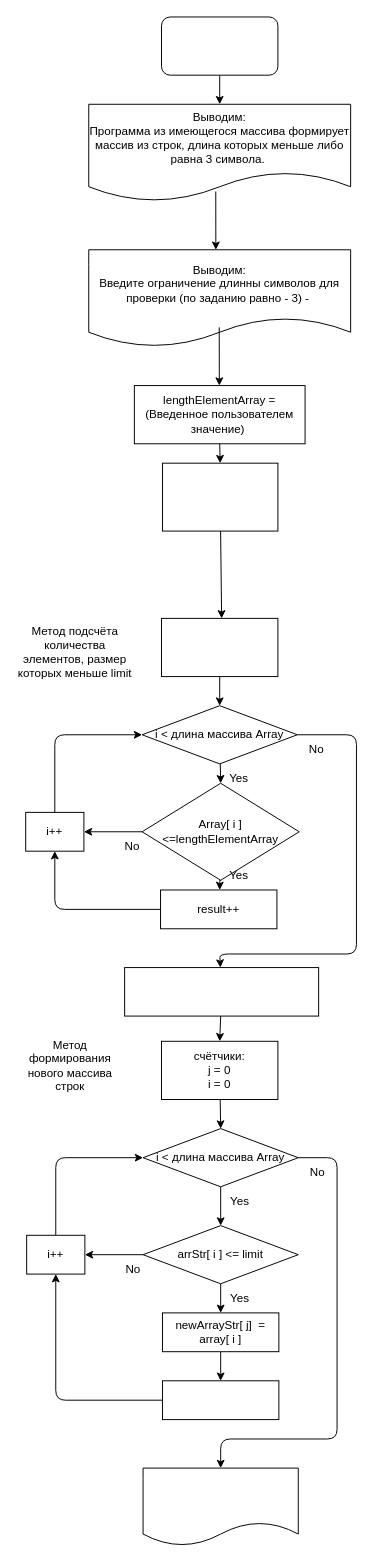
Some shapes in this 381 by 1563 pixel diagram are drawn without their labels. Here are the shapes that lost their labels. From the top down, the centre of each, then its label:
point 219,45: Начало
point 220,496: получение массива строк (Array)
point 219,647: счётчики: result= 0 i = 0
point 221,991: инициализация нового массива(newArrayStr), размером result
point 220,1400: j++
point 220,1506: Выводим массив методом PrintArray(newArrayStr)
